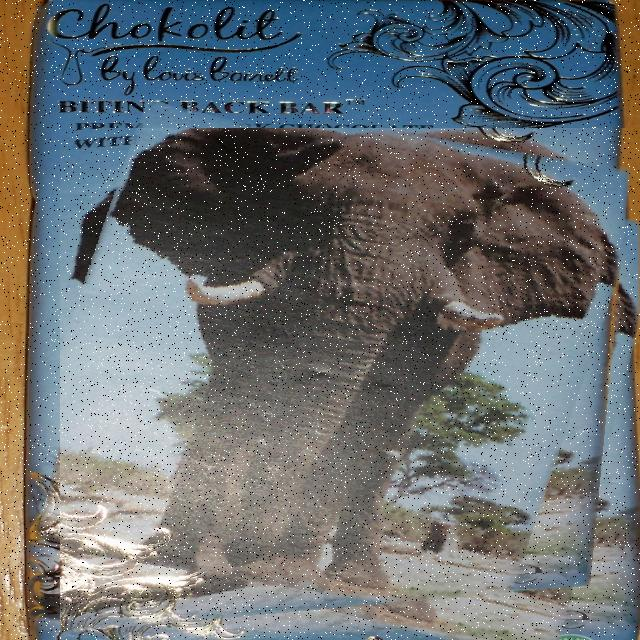elephant: (60, 128, 639, 637)
